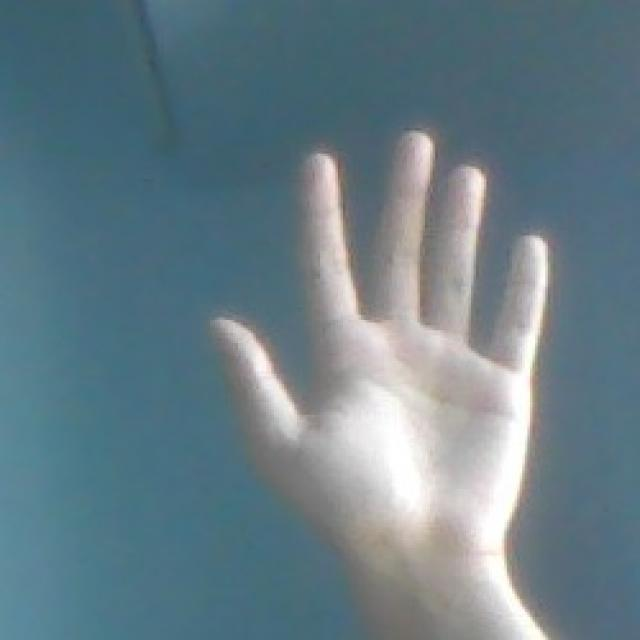Numeric-5: (213, 112, 567, 599)
